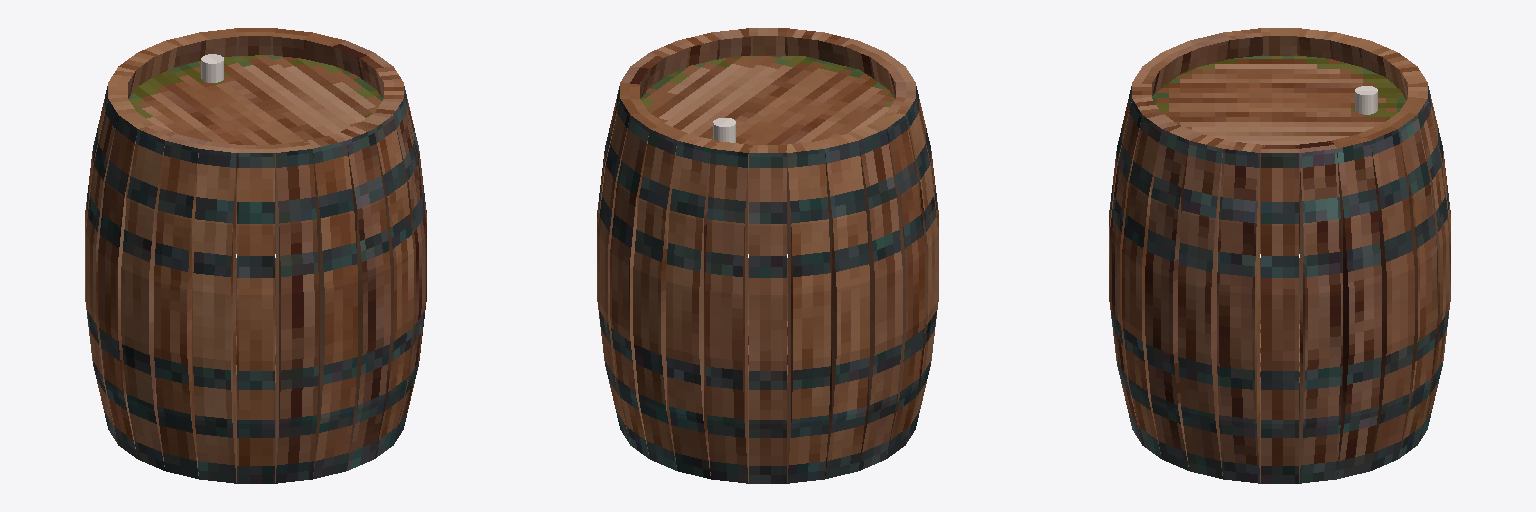
3 views of the same model, side by side, from view 1: azimuth 30°, elevation 25°; view 2: azimuth 150°, elevation 25°; view 3: azimuth 270°, elevation 25° (orthographic).
Parts seen in each view (by area): view 1: cube; view 2: cube; view 3: cube.
Boxes of the visible parts, x1,y1,x2,y2 form: cube: [85, 28, 426, 483]; cube: [597, 28, 938, 483]; cube: [1109, 28, 1450, 483].
Size of the model in its own units: 0.9375 by 1 by 0.9375.
Materials: 1 (1 with a texture image).